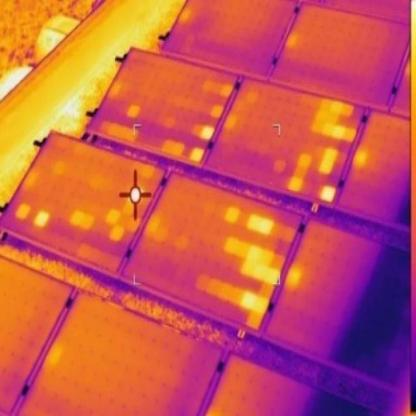anomaly: (196, 275, 278, 333), (227, 233, 283, 283), (310, 99, 361, 143), (106, 202, 143, 248), (228, 204, 274, 231), (99, 119, 146, 145), (291, 150, 310, 194), (70, 208, 97, 232), (160, 138, 188, 157), (321, 147, 337, 177), (351, 149, 371, 169), (319, 182, 337, 202), (289, 266, 304, 289), (34, 210, 51, 230), (196, 125, 214, 140), (190, 144, 203, 164)
